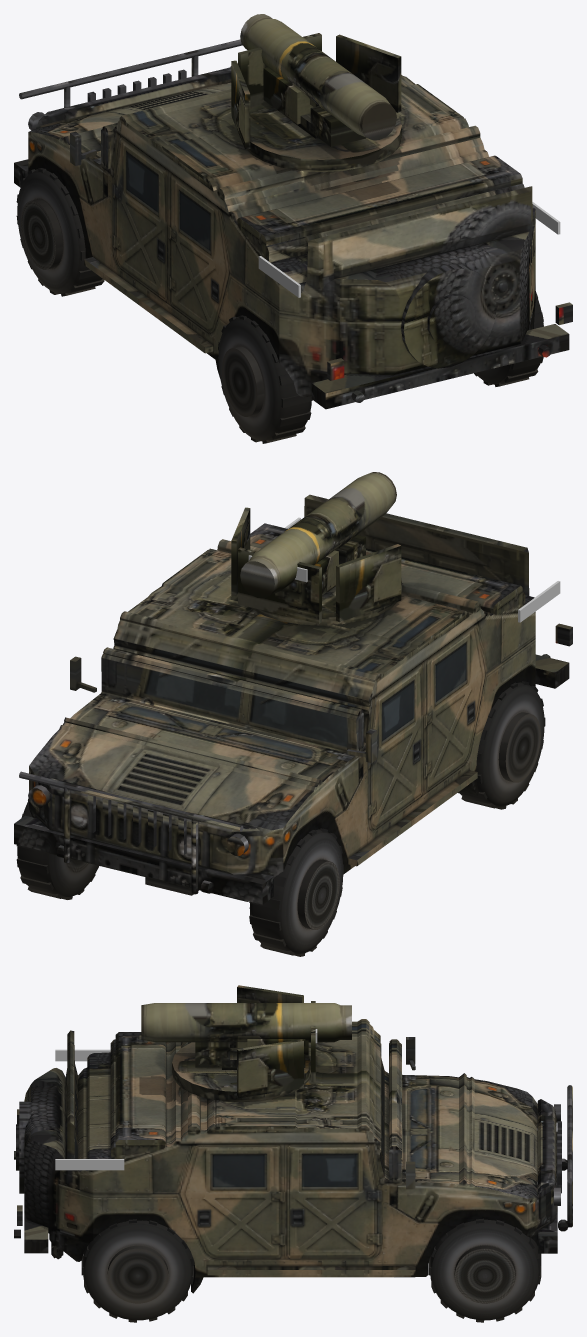
File: hmmwv_tow.glb
3 renders of one model, top to bottom at view 1: azimuth 30°, elevation 25°; view 2: azimuth 150°, elevation 25°; view 3: azimuth 270°, elevation 25°, orthographic. The views are drawn at different scales.
Visible parts, largest first — view 1: Hull, Turret, Gun, WheelRL, WheelFL, WheelRR; view 2: Hull, Turret, Gun, WheelFL, WheelRL, WheelFR; view 3: Hull, Gun, WheelFR, WheelRR, Turret.
Part boxes in pixels (left/top/right/bottom): Hull: left=14, top=39, right=572, bottom=409; Turret: left=231, top=33, right=401, bottom=171; Gun: left=240, top=14, right=396, bottom=146; WheelRL: left=218, top=315, right=312, bottom=443; WheelFL: left=16, top=168, right=104, bottom=296; WheelRR: left=474, top=291, right=543, bottom=386; Hull: left=14, top=494, right=572, bottom=904; Turret: left=231, top=507, right=401, bottom=625; Gun: left=240, top=472, right=396, bottom=598; WheelFL: left=249, top=828, right=343, bottom=956; WheelRL: left=458, top=681, right=545, bottom=809; WheelFR: left=16, top=798, right=98, bottom=899; Hull: left=14, top=1019, right=572, bottom=1293; Gun: left=141, top=1003, right=351, bottom=1067; WheelFR: left=428, top=1218, right=541, bottom=1322; WheelRR: left=81, top=1219, right=193, bottom=1322; Turret: left=172, top=985, right=317, bottom=1102.
Bounding box in the file's own units: 2.6 × 2.5 × 4.83.
2 materials, 1 textured.
